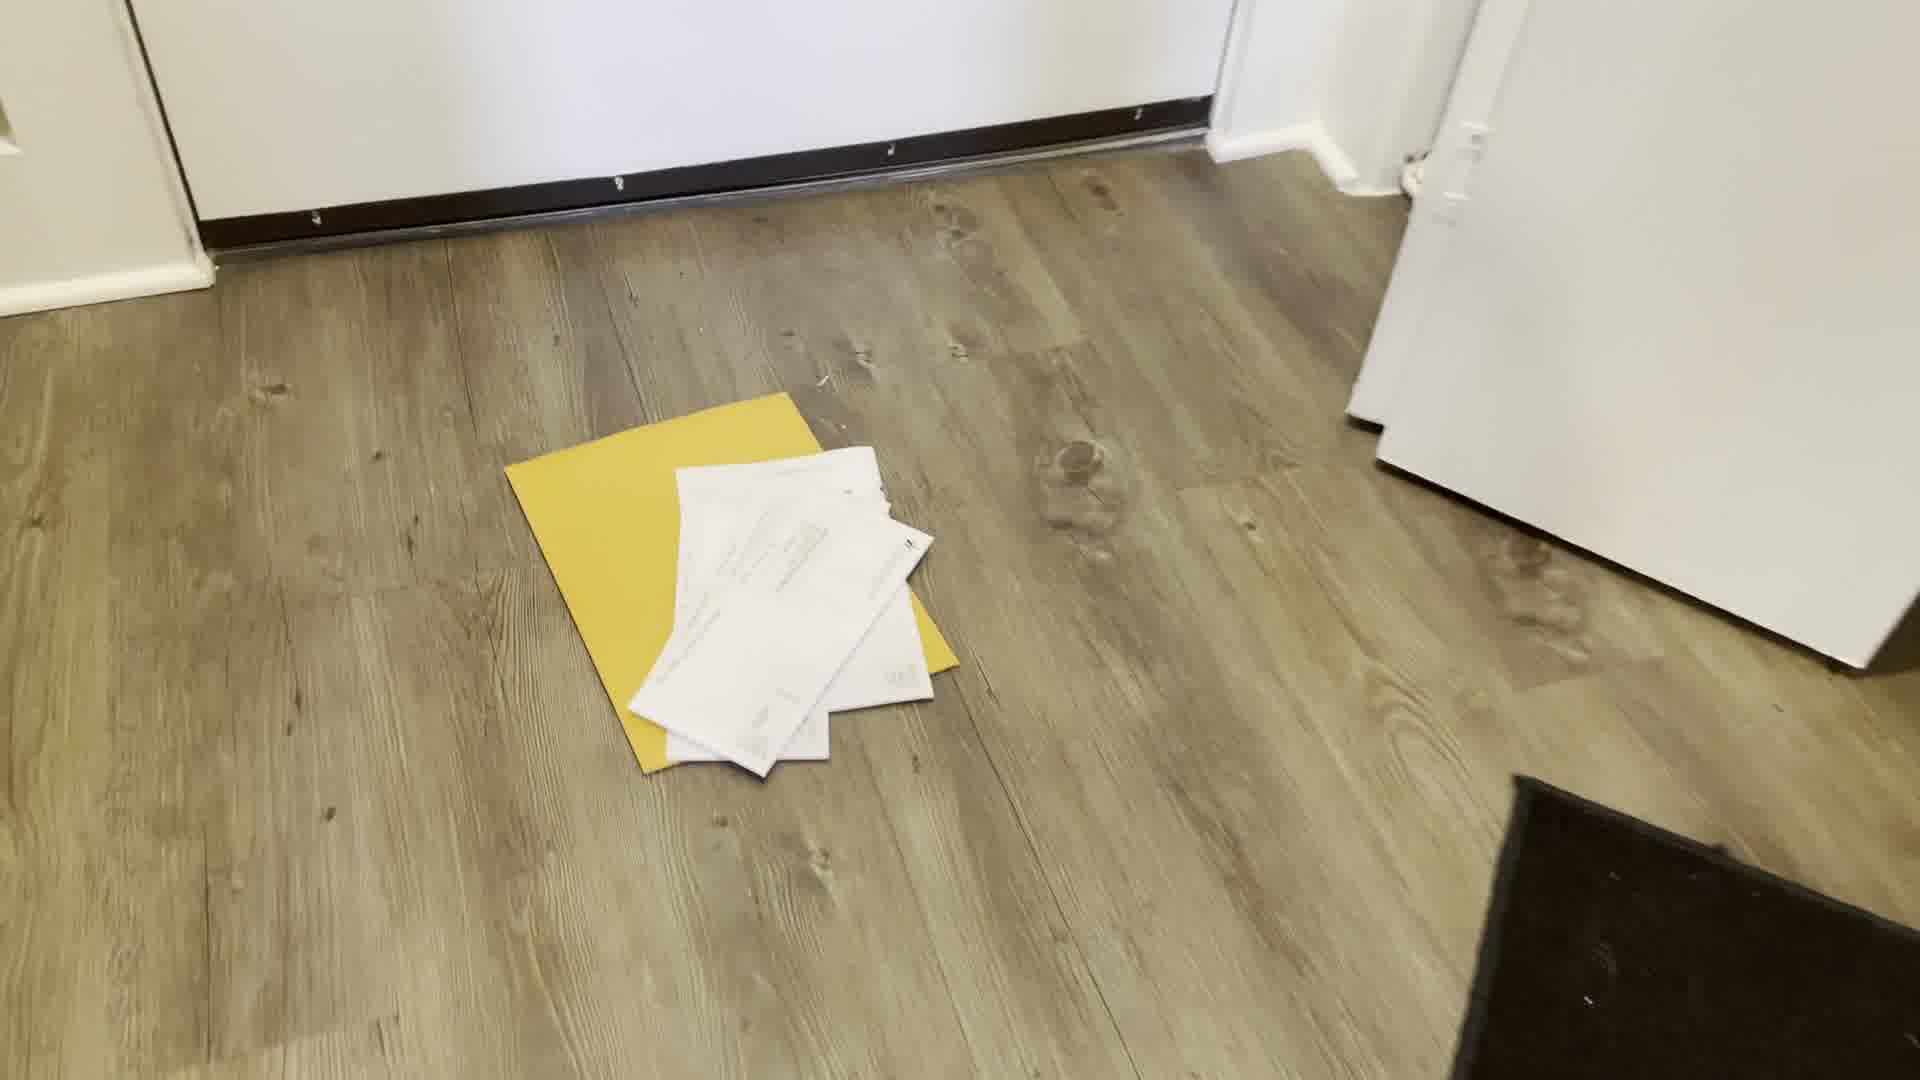envelope: (488, 375, 967, 767), (638, 440, 938, 775)
